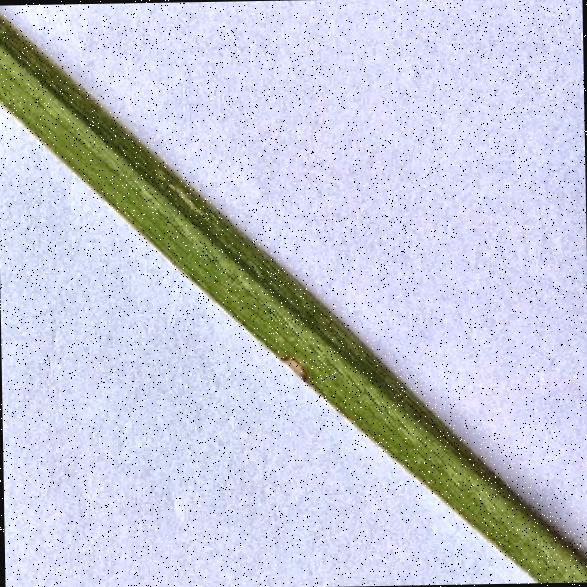Leaf_smut: (272, 328, 324, 384)
